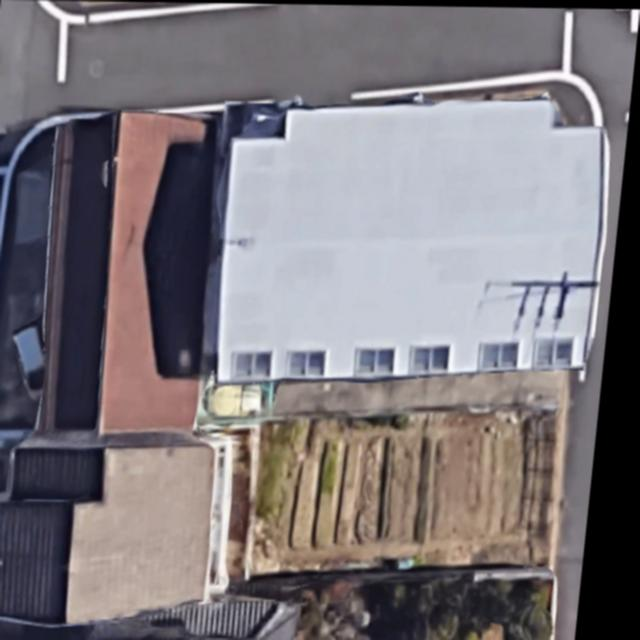Batiment: (224, 99, 604, 382), (45, 112, 217, 433), (0, 447, 222, 624)
